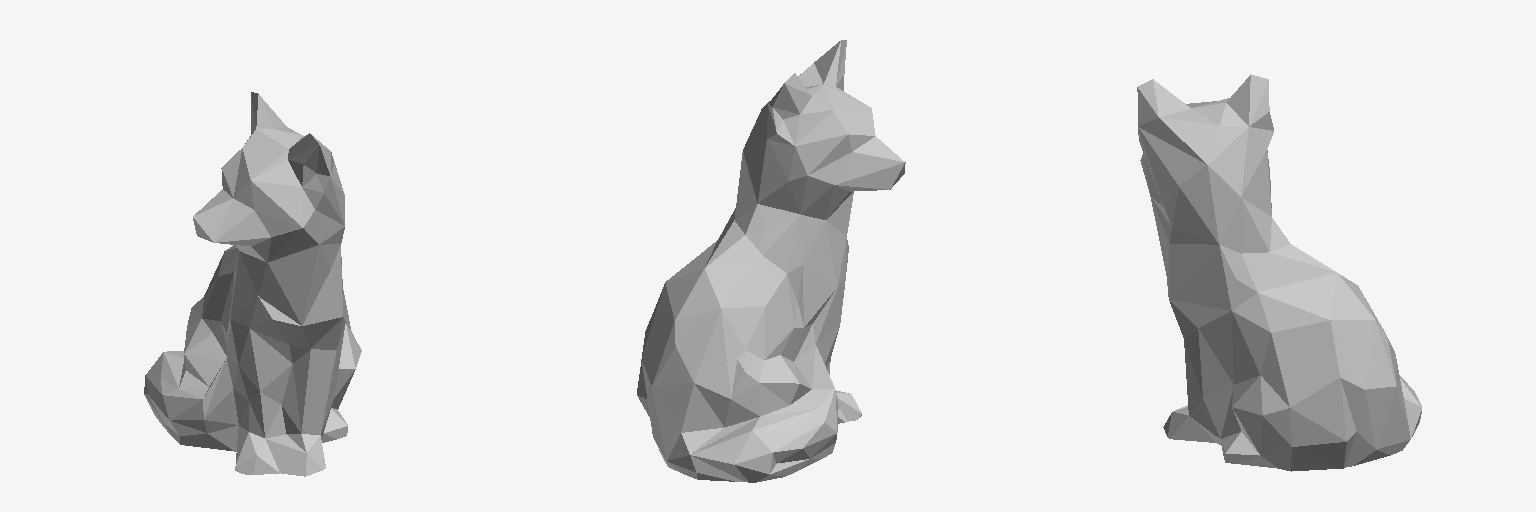
Rendered from fox.obj.
3 views of the same model, side by side, from view 1: azimuth 30°, elevation 25°; view 2: azimuth 150°, elevation 25°; view 3: azimuth 270°, elevation 25° (orthographic).
Visible parts, largest first — view 1: Low_Poly_Fox; view 2: Low_Poly_Fox; view 3: Low_Poly_Fox.
Part boxes in pixels (bbox=[...]): Low_Poly_Fox: bbox=[144, 92, 361, 476]; Low_Poly_Fox: bbox=[637, 40, 905, 482]; Low_Poly_Fox: bbox=[1137, 74, 1421, 471].
Bounding box in the file's own units: 1.02 × 1.71 × 1.26.